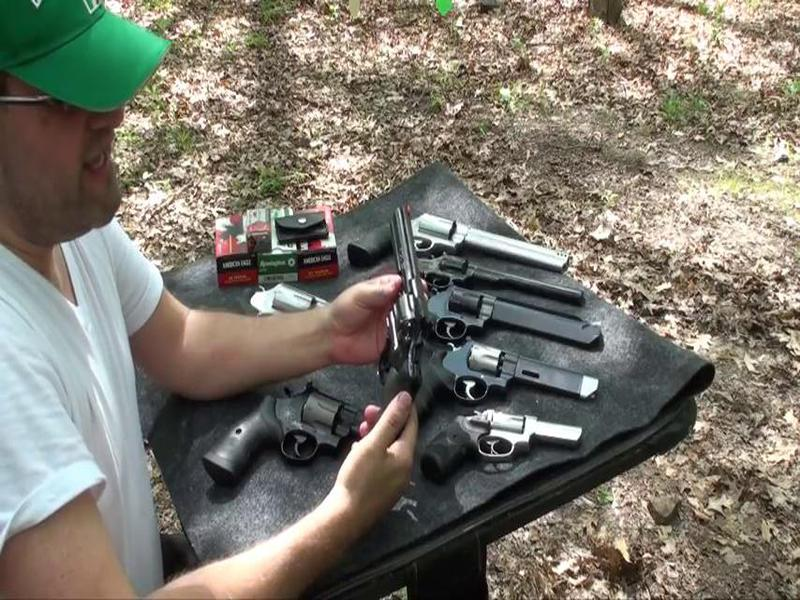Revolver: (347, 206, 460, 438)
